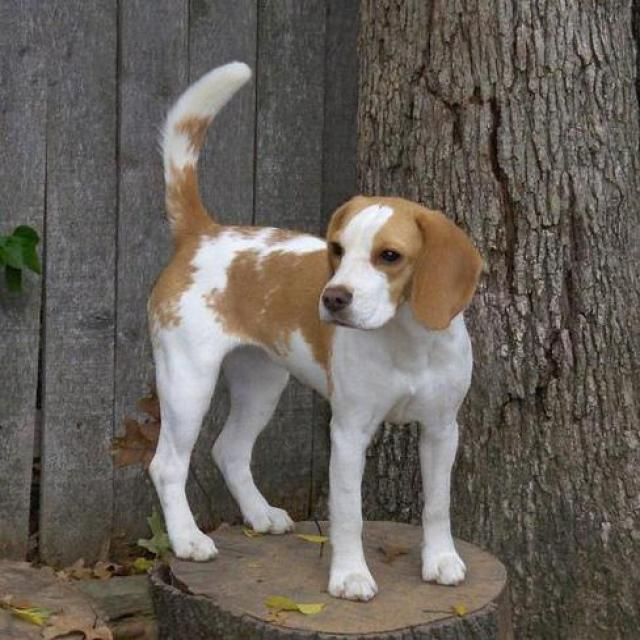beagle: (144, 60, 484, 602)
